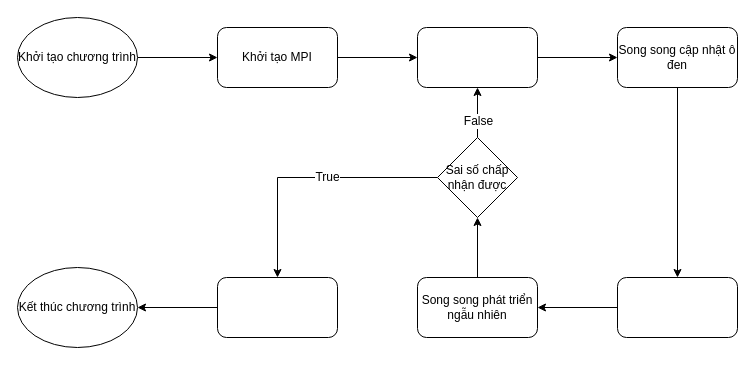
Some shapes in this 755 by 365 pixel diagram are drawn without their labels. Each missing label, with the centre of its shape:
"Kết thúc MPI" goes at point (277, 307).
"Song song cập nhật ô đỏ" goes at point (477, 57).
"Song song tính xác suất phát triển" goes at point (677, 307).
